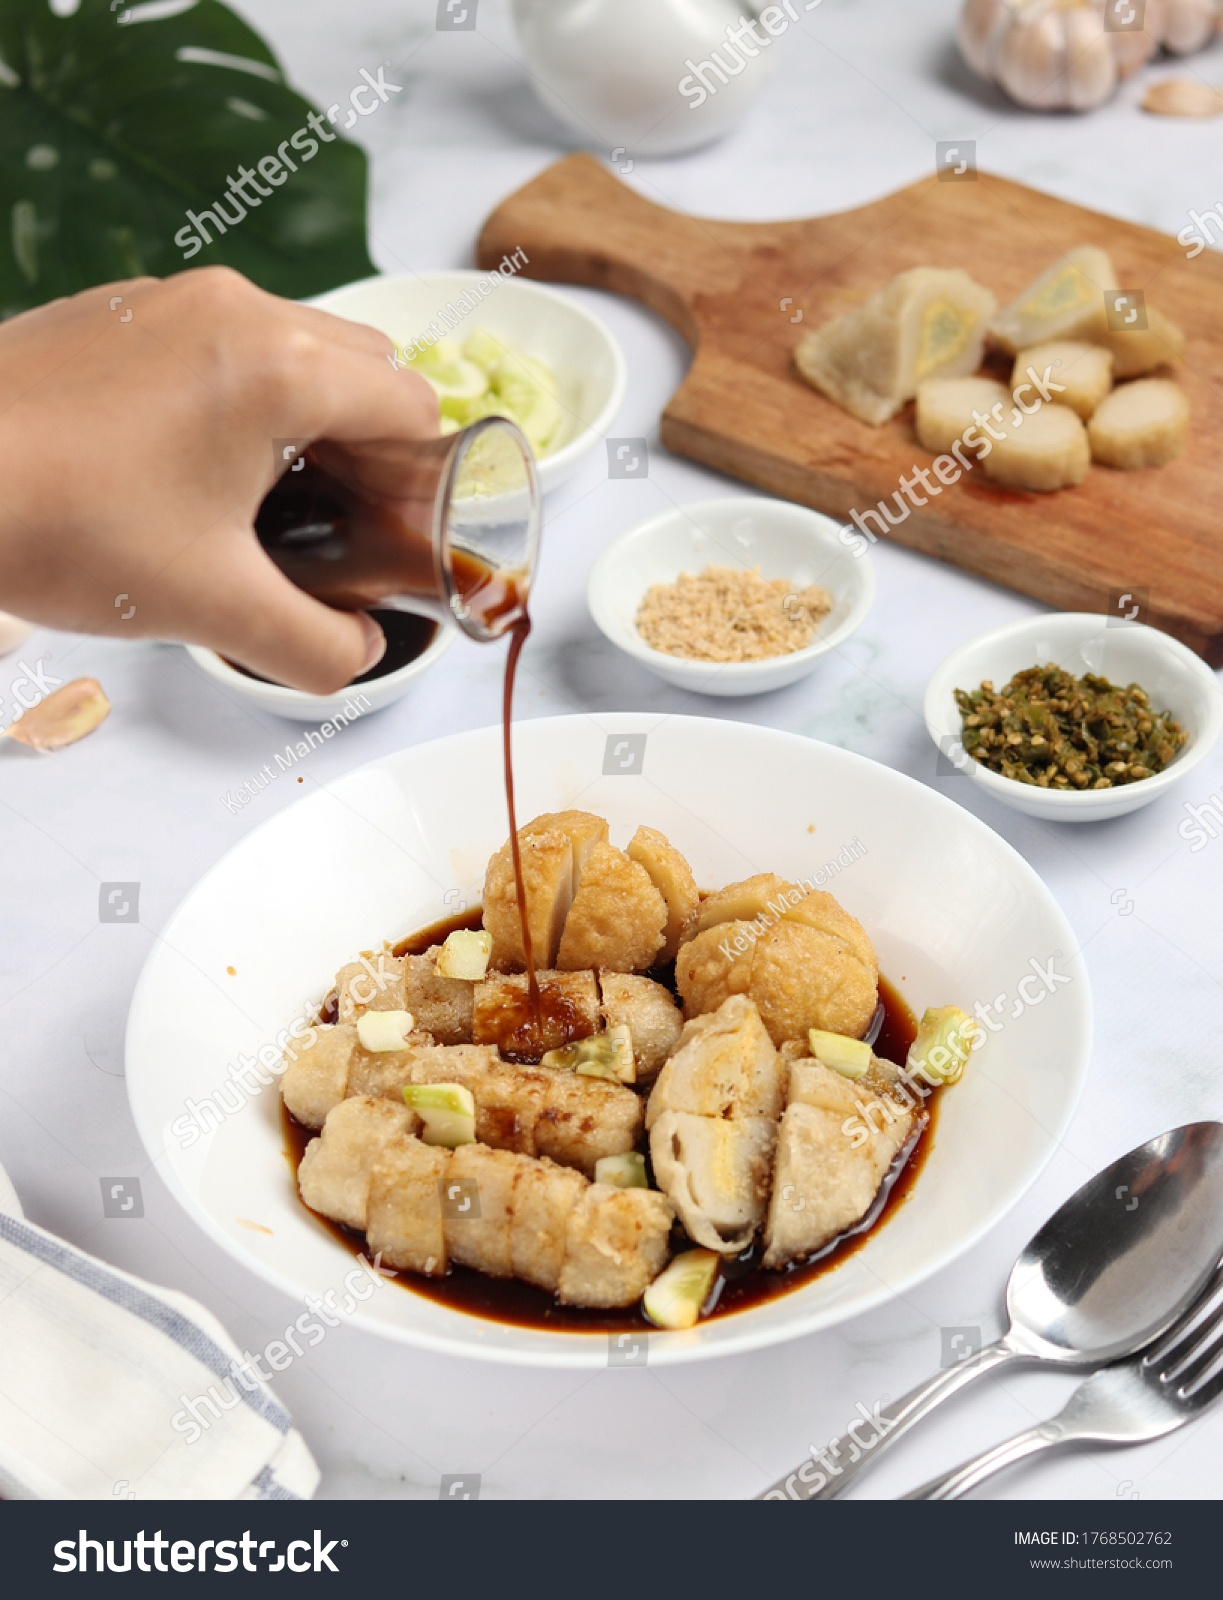pempek: (280, 809, 933, 1307)
